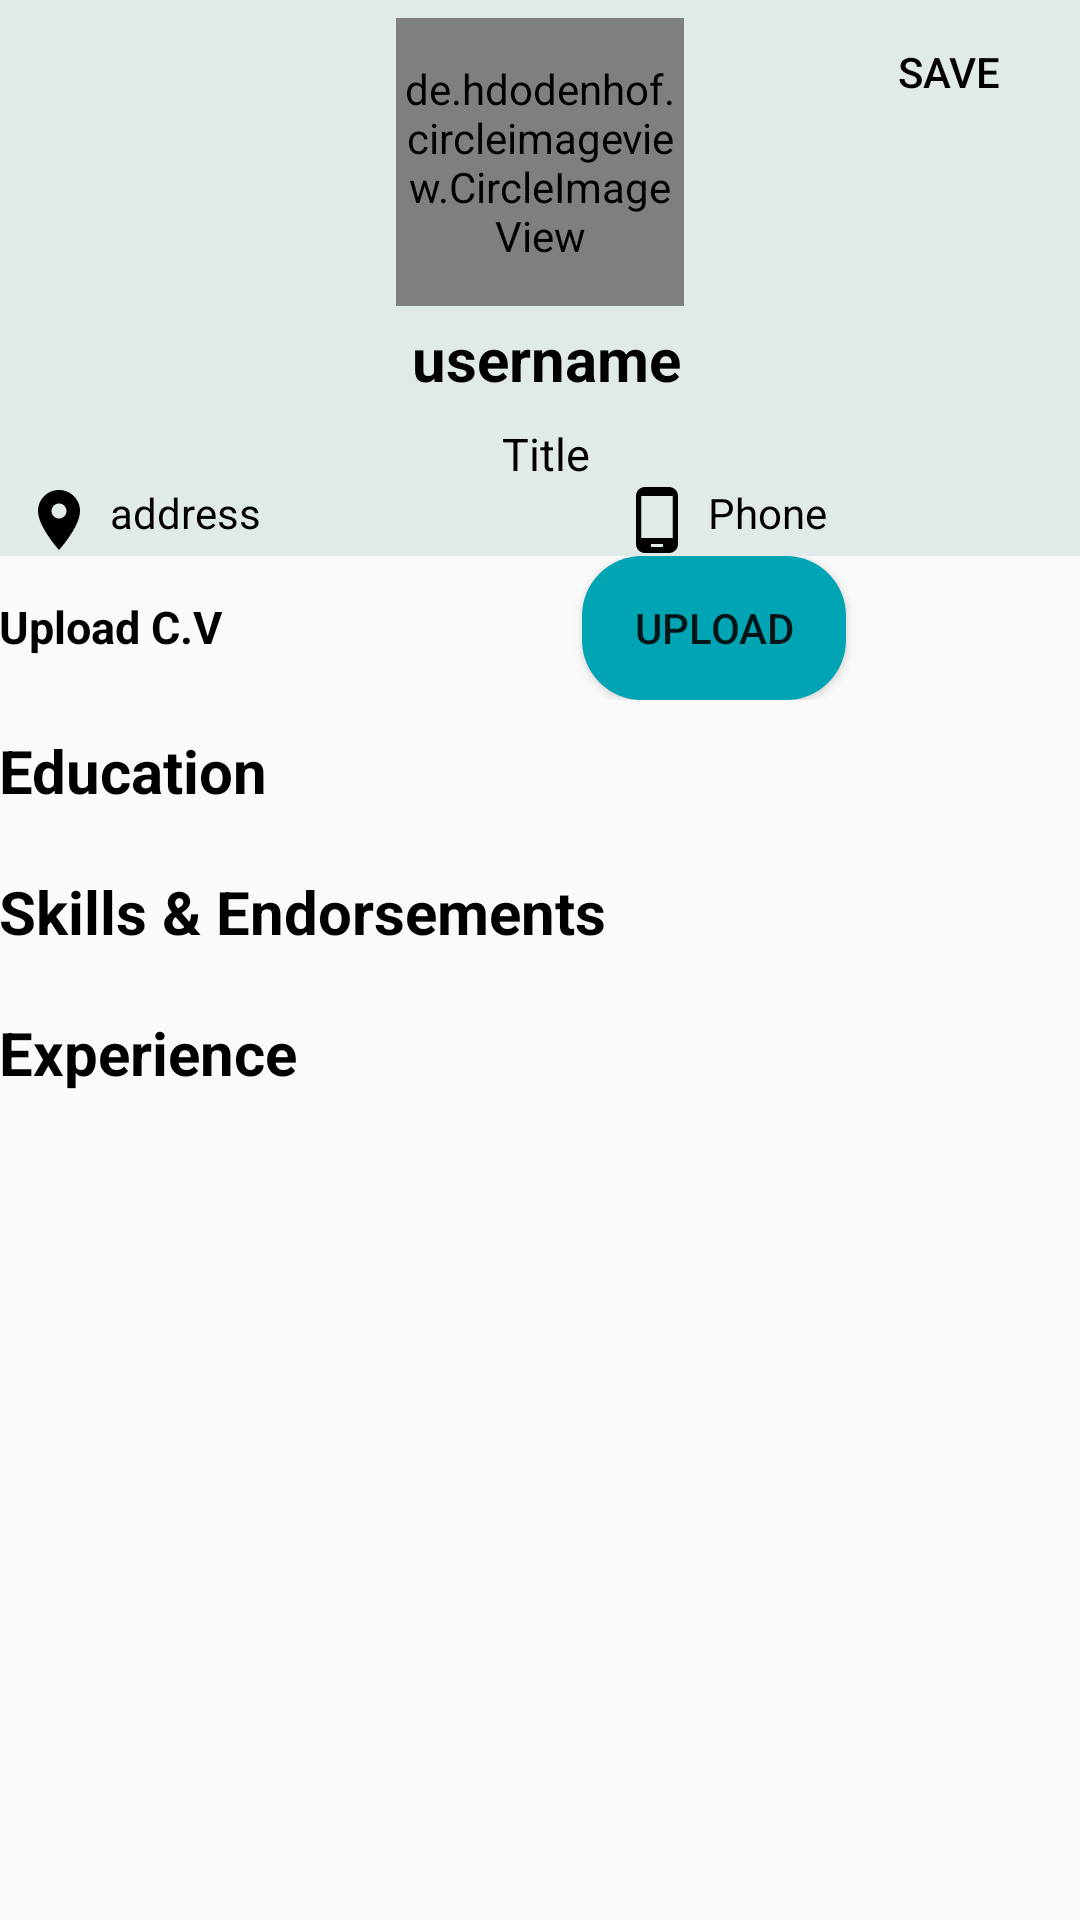

Named icons in this screenshot (1080w x 1920h) and their centers, (x,y):
location: (59,520)
